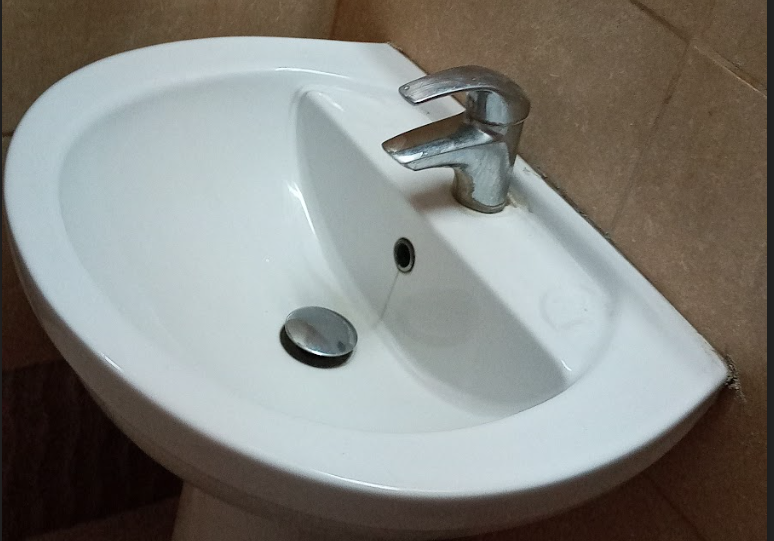Toilet: (3, 33, 744, 540)
